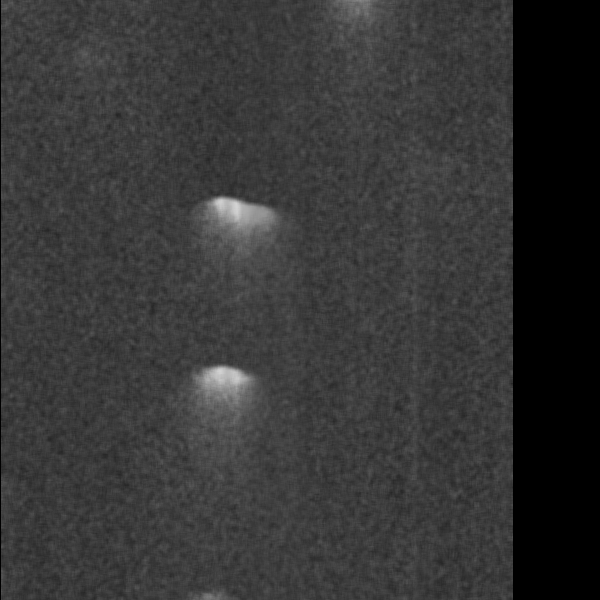spark: (128, 374, 178, 432)
